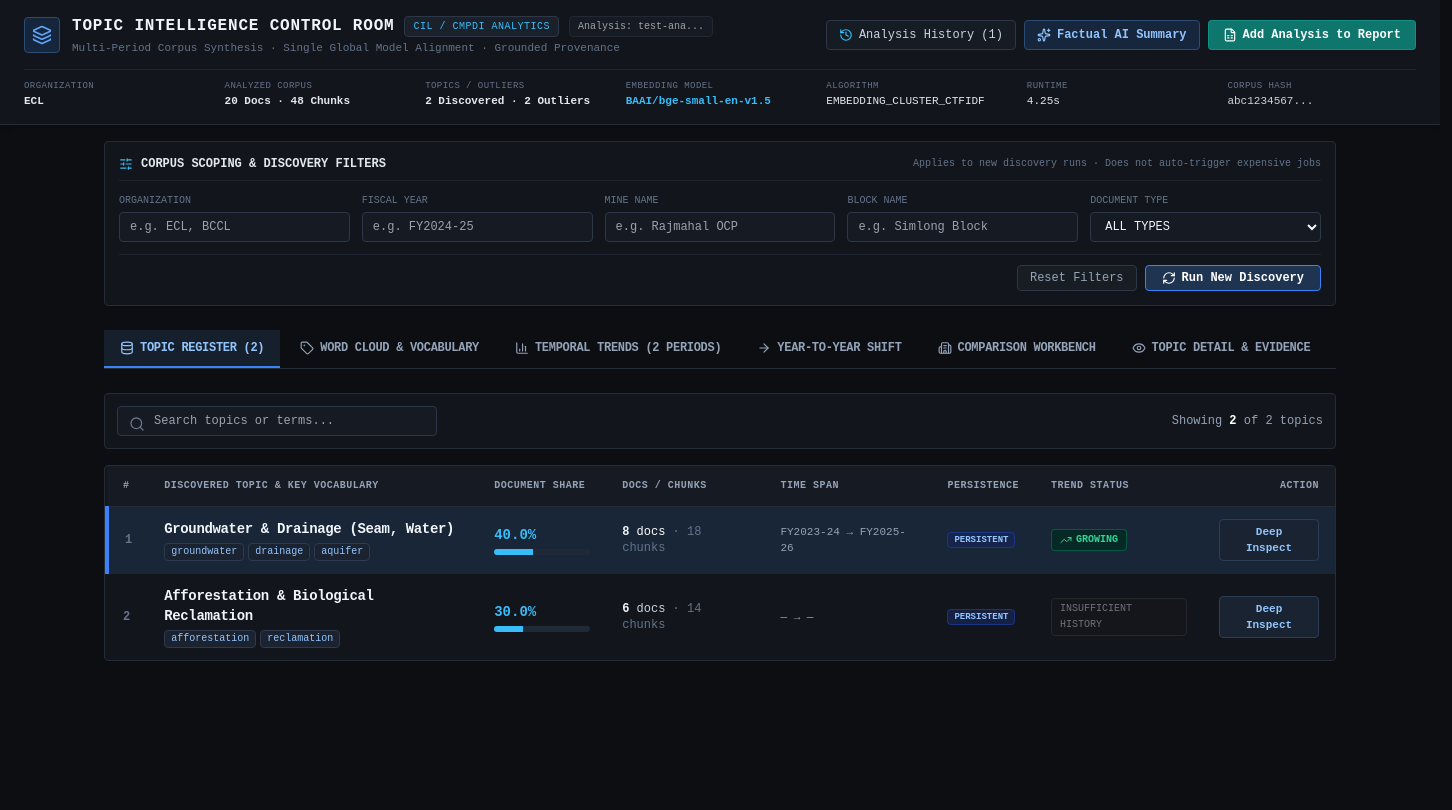
Test: TopicIntelligence Component (Phase 8.4) › 4. Navigates to Temporal Trends and displays period prevalence points with sample size
expect the text "Groundwater & Drainage (Seam, Water)" is shown: met, box x1=164 y1=518 x2=462 y2=538
Click the button "TEMPORAL TRENDS (2 PERIODS)": [618, 348] box x1=499 y1=330 x2=737 y2=368
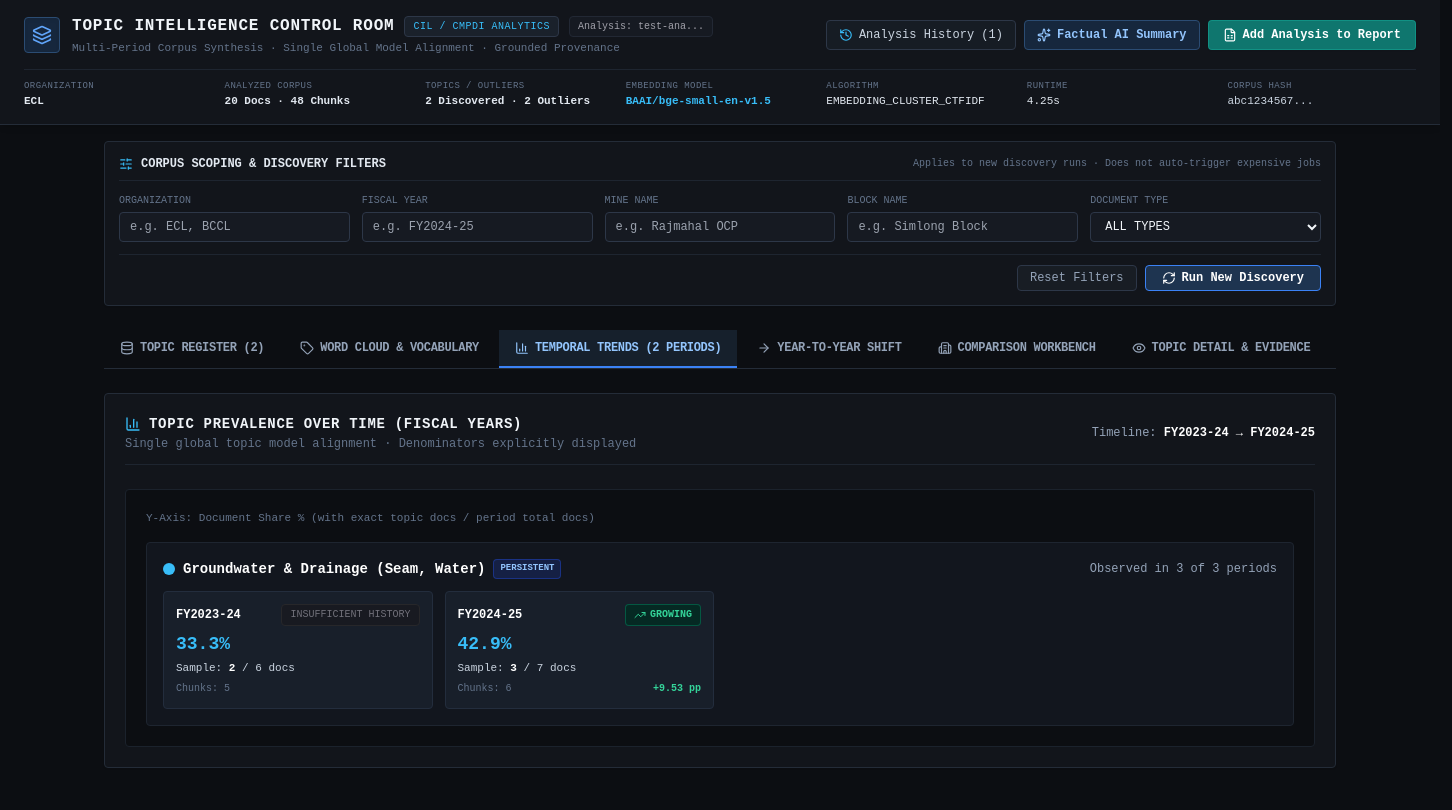
expect the heading "TOPIC PREVALENCE OVER TIME (FISCAL YEARS)" is shown: met, box x1=125 y1=416 x2=522 y2=432
expect the text "33.3%" is shown: met, box x1=176 y1=634 x2=230 y2=654
expect the text "42.9%" is shown: met, box x1=458 y1=634 x2=512 y2=654
